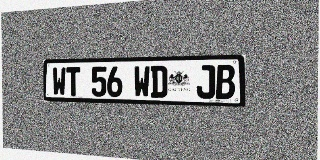5: (92, 66, 107, 97)
6: (107, 66, 122, 97)
B: (216, 65, 235, 99)
D: (151, 66, 167, 98)
J: (197, 65, 215, 99)
T: (66, 67, 80, 96)
W: (134, 66, 150, 98), (52, 67, 66, 96)
